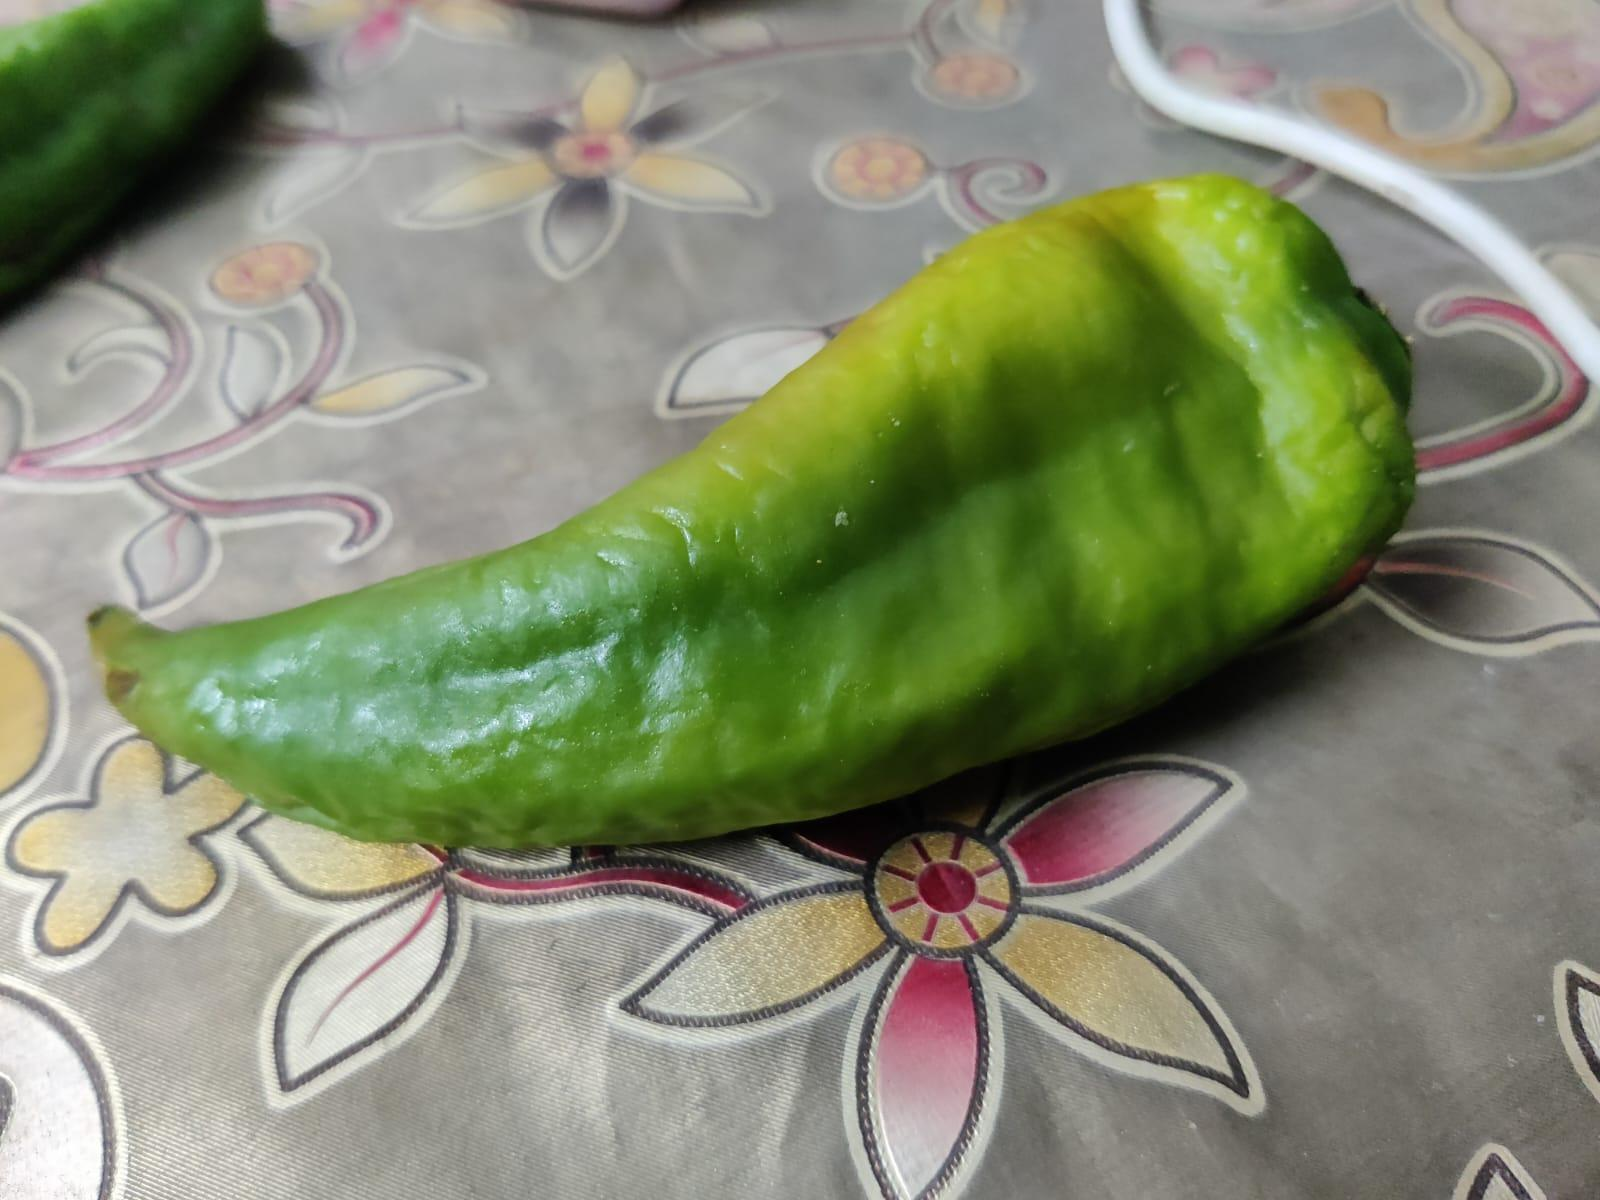non-mango: (91, 174, 1417, 858)
